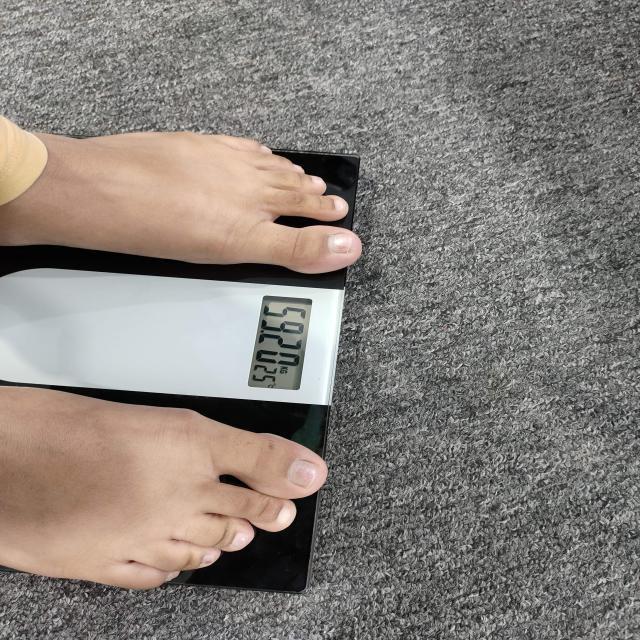ws: (0, 265, 348, 455)
